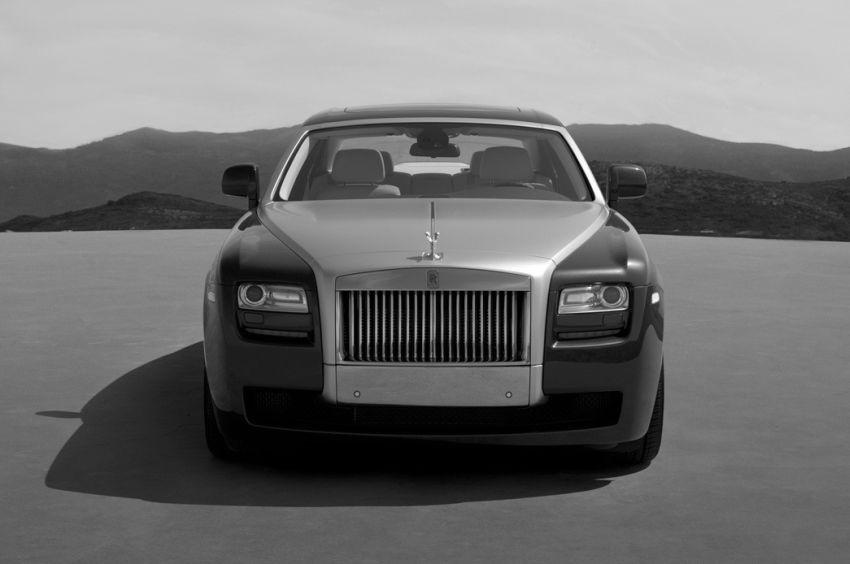car: (201, 100, 674, 471)
